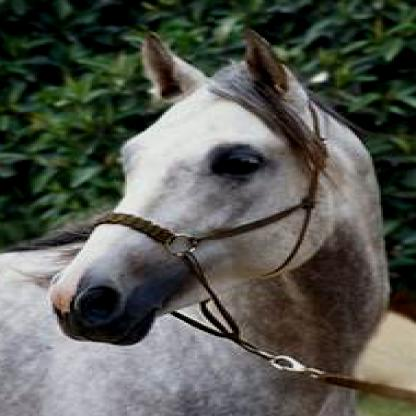horse: (2, 29, 392, 415)
